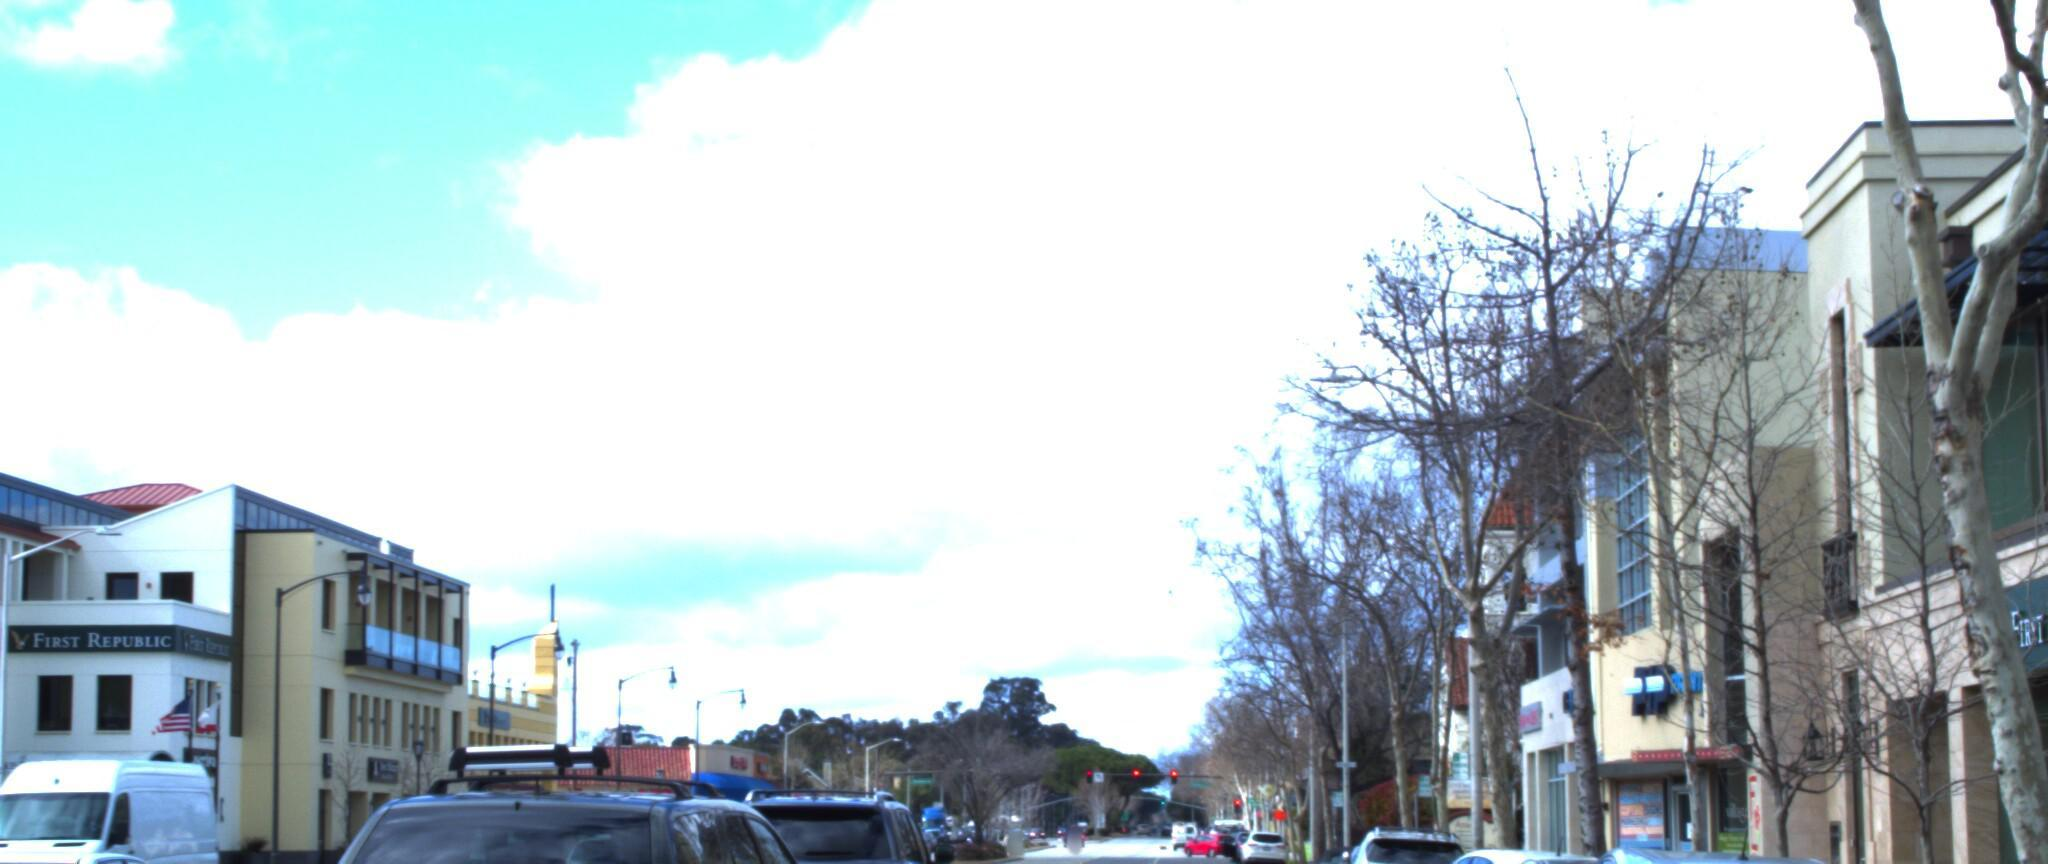car: (293, 688, 899, 864), (0, 727, 253, 864), (703, 757, 967, 864), (1514, 817, 1938, 864), (1399, 813, 1685, 864), (0, 821, 282, 864), (1467, 826, 1753, 864), (1343, 796, 1497, 864)
